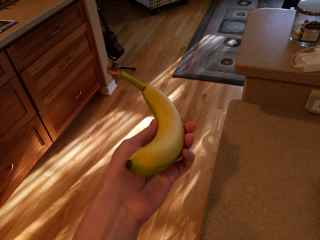banana: (106, 65, 187, 179)
